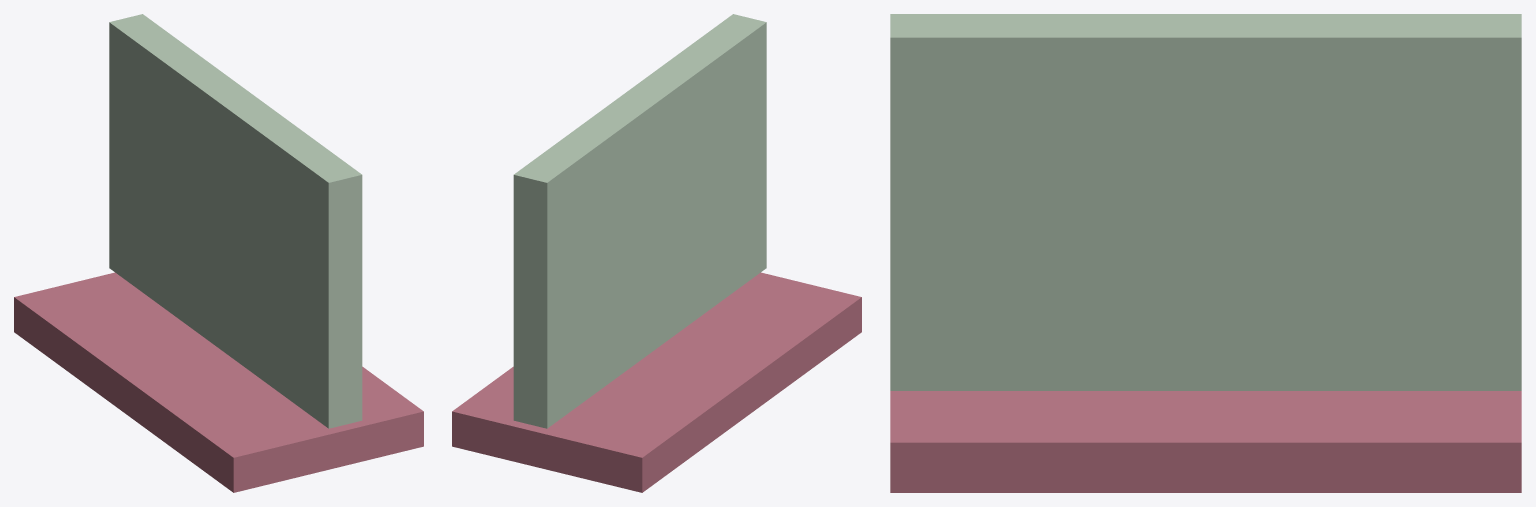
3 views of the same model, side by side, from view 1: azimuth 30°, elevation 25°; view 2: azimuth 150°, elevation 25°; view 3: azimuth 270°, elevation 25° (orthographic). The views are drawn at different scales.
Visible parts, largest first — view 1: world; view 2: world; view 3: world.
Boxes of the visible parts, x1,y1,x2,y2 form: world: [14, 14, 423, 492]; world: [452, 14, 861, 492]; world: [890, 14, 1521, 492].
Size of the model in its own units: 3.4 by 4.9 by 6.8.
